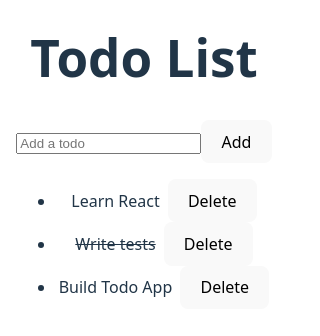
Test: adds a new todo
The image size is (320, 336).
Type "New Task" into the field named "todo-input". click: x=109, y=143
box: [16,133,201,154]
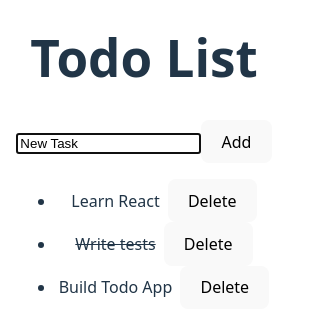
Submit the form named "add-todo-form", box [16,120,272,163]
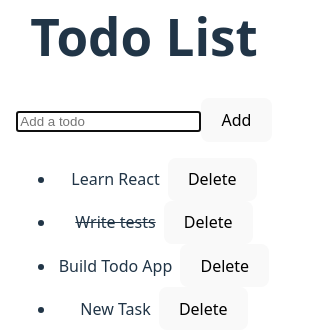
expect the button "New Task" is shown: met, box [80,298,151,320]
